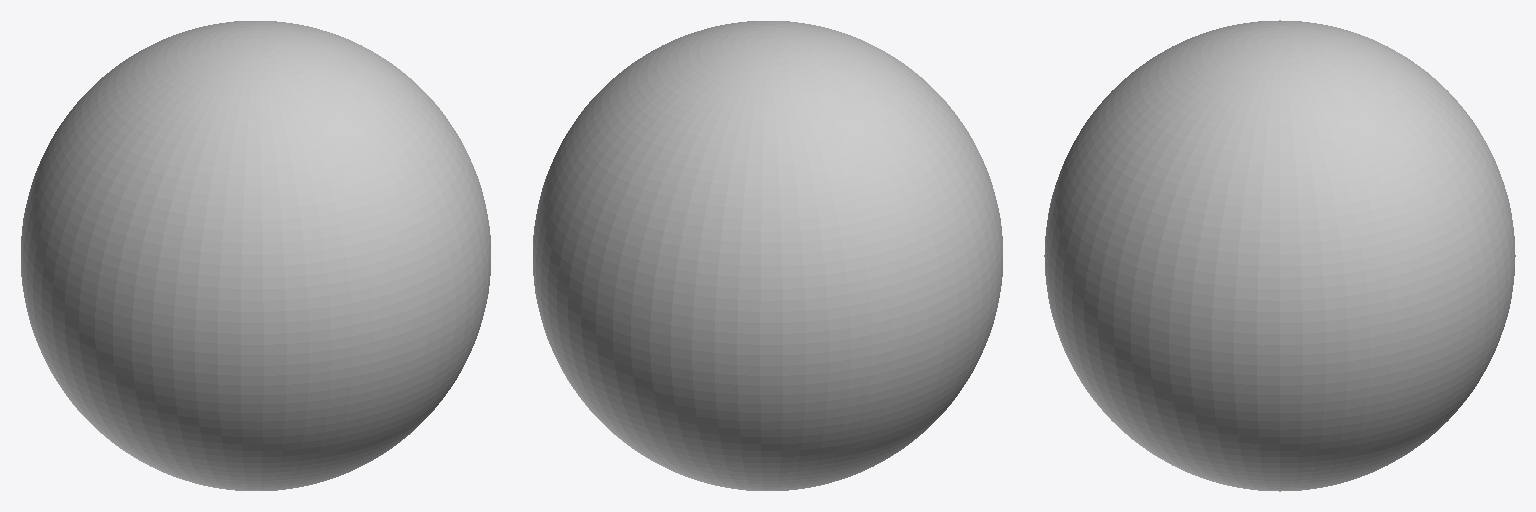
The model's file is testsphere.obj.
3 renders of one model, left to right at view 1: azimuth 30°, elevation 25°; view 2: azimuth 150°, elevation 25°; view 3: azimuth 270°, elevation 25°, orthographic.
Visible parts, largest first — view 1: Sphere; view 2: Sphere; view 3: Sphere.
Part boxes in pixels (x1,y1,x2,y2): Sphere: (21, 21, 490, 490); Sphere: (533, 21, 1002, 490); Sphere: (1044, 20, 1515, 491).
Size of the model in its own units: 2 by 2 by 2.